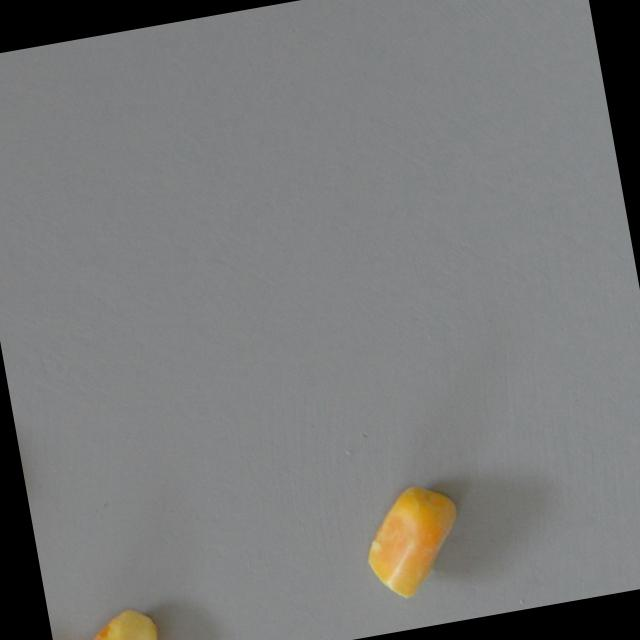dañado: (353, 475, 473, 606)
pelicula: (48, 599, 163, 640)
